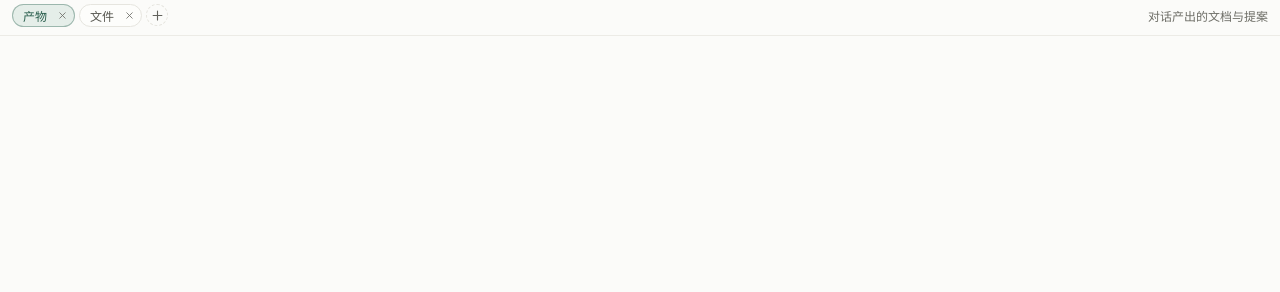
Scenario: WorkspaceViewTabs「+」菜单（回归：被裁剪） › 菜单渲染到 body，不受标签条裁剪影响
What coordinates should you click on to do the following:
click the button named "新建视图"
I would click on:
 (157, 15)
Its box is x1=146 y1=4 x2=168 y2=26.
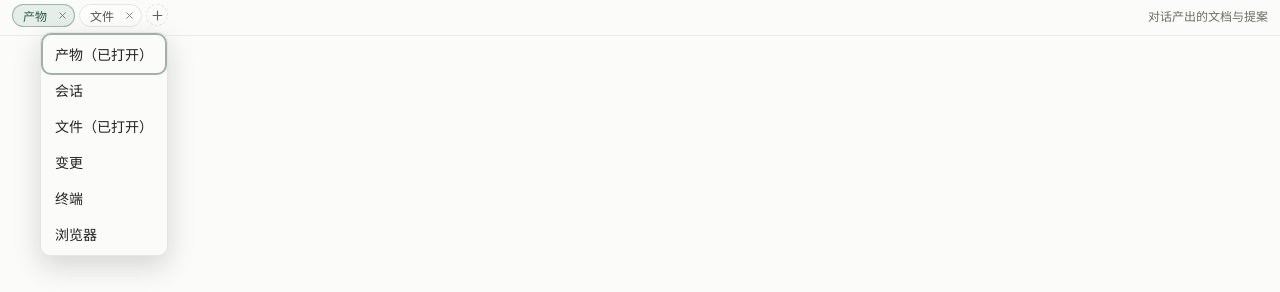
Check: the menu with class "row-menu-pop" is shown, box x1=40 y1=32 x2=168 y2=256
Check: the menu with class "row-menu-pop" shows "终端", box x1=45 y1=181 x2=163 y2=215
Check: the menu with class "row-menu-pop" shows "浏览器", box x1=45 y1=217 x2=163 y2=251
